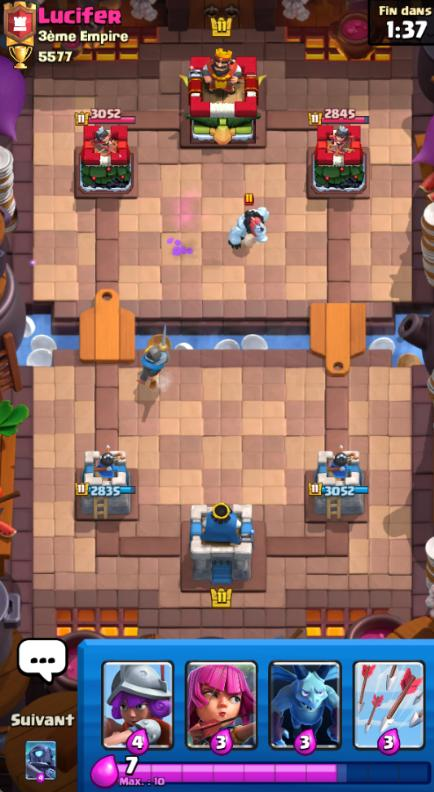chevalier: (138, 324, 174, 388)
